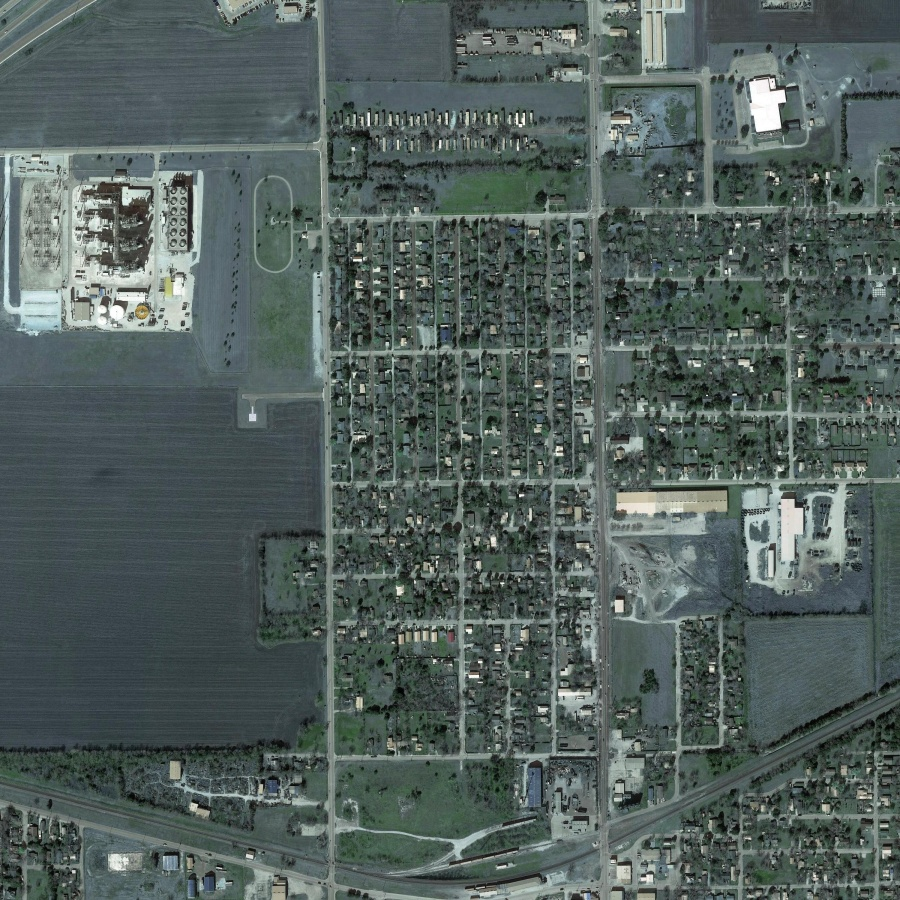PowerPlant: (6, 149, 200, 338)
